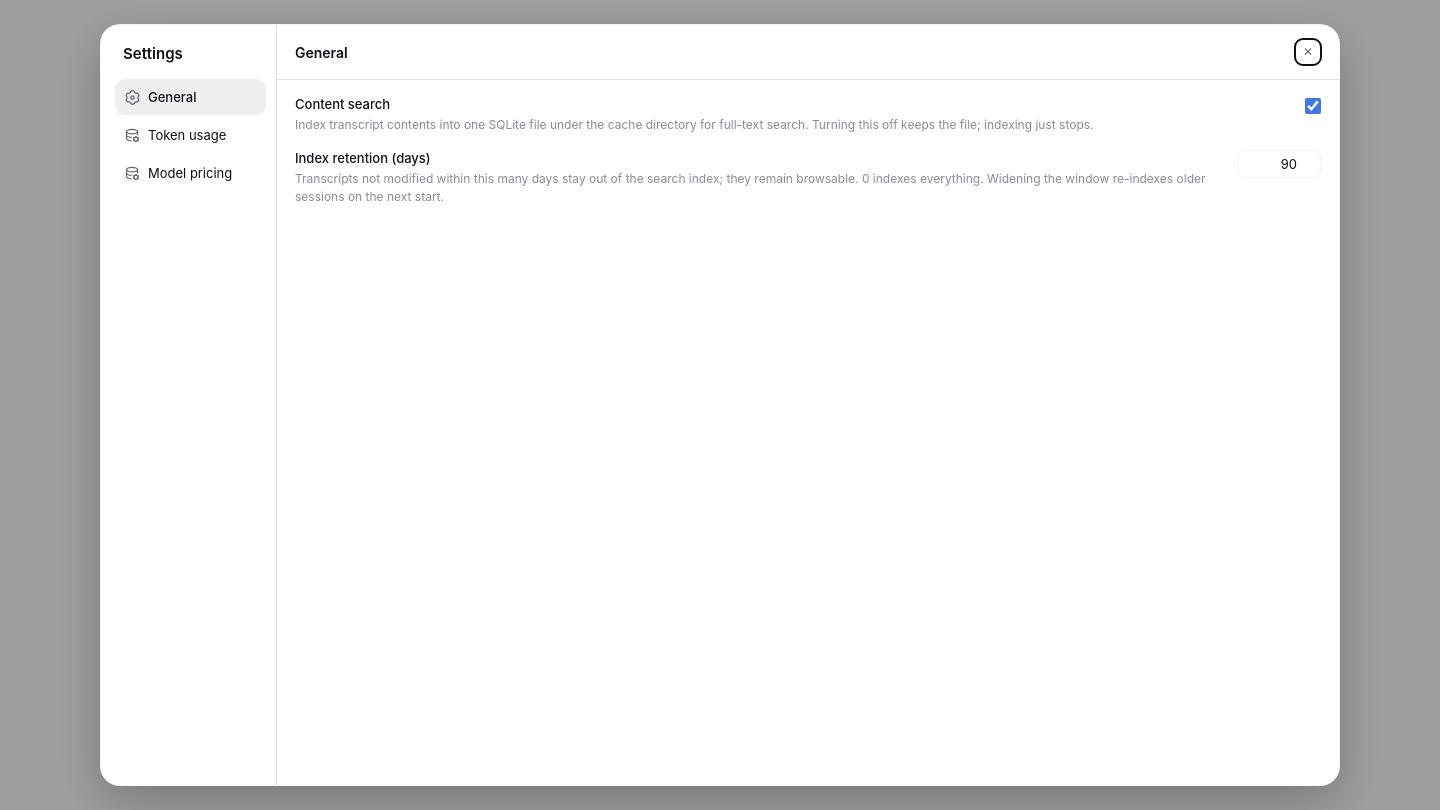
Test: SettingsDialog › saves a valid edit on commit and adopts the answered value
Replace the text in the number field named "Index retention days" with "30" at (1279,164), box [1237,150,1321,178]
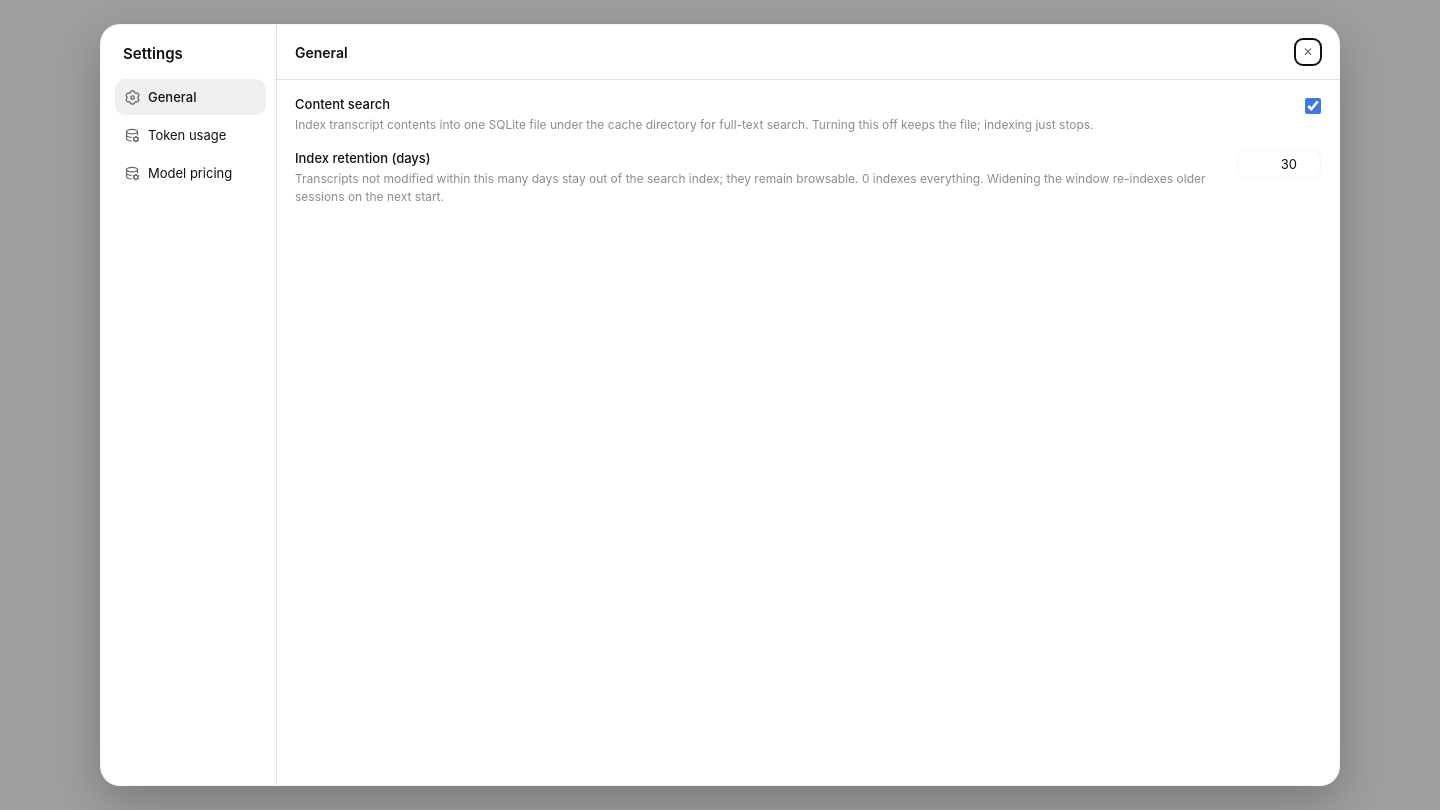
Leave the number field named "Index retention days", box [1237,150,1321,178]
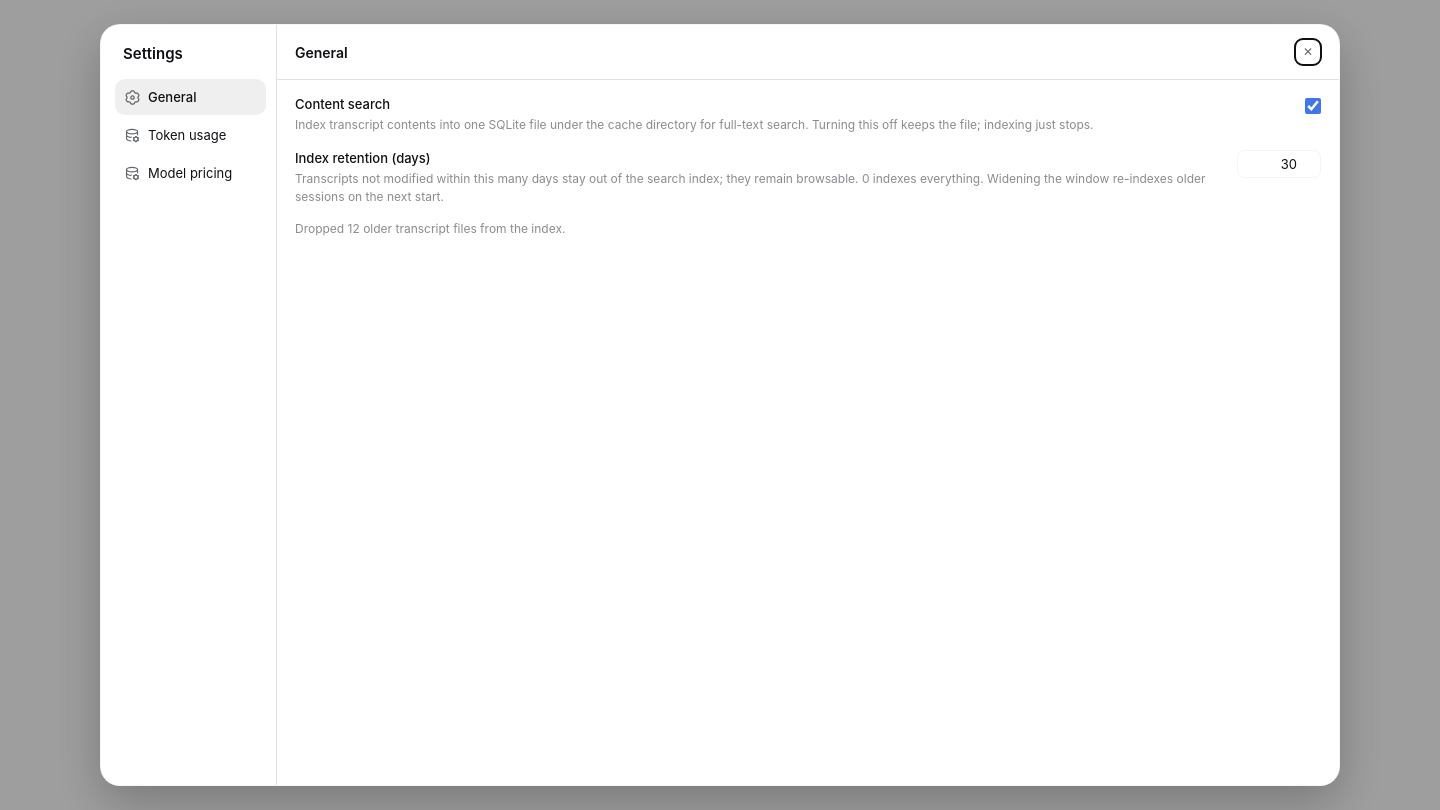
expect the text "Dropped 12 older transcript files from the index." is shown: met, box [295,221,565,236]
